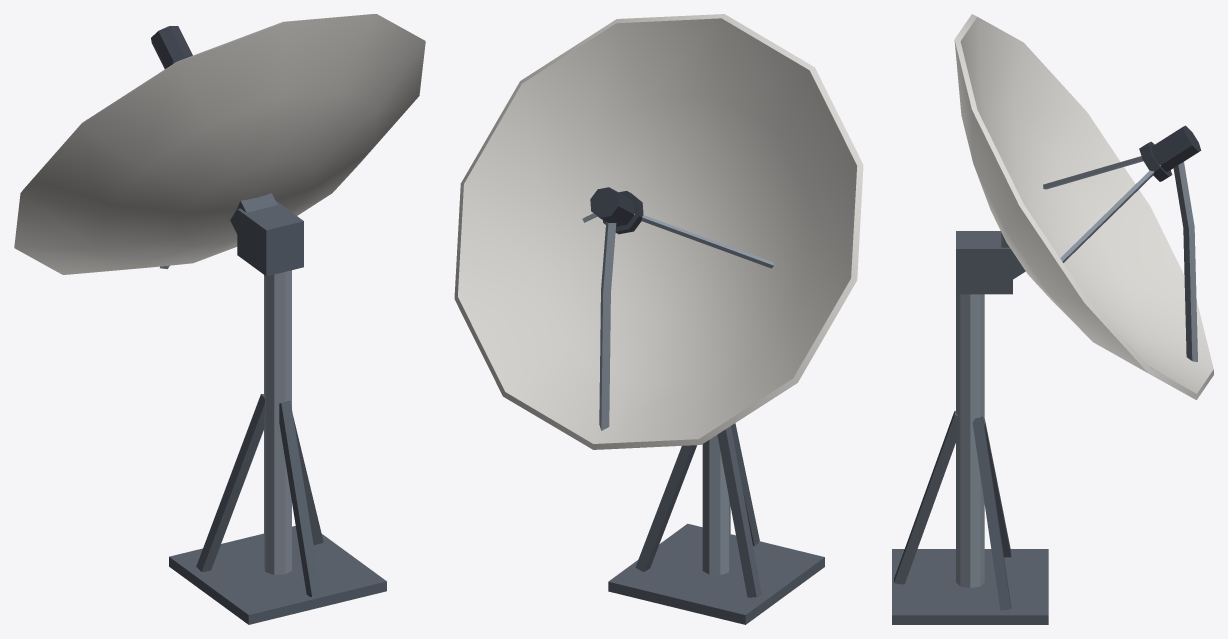
Rendered from satellite_dish.glb.
3 renders of one model, left to right at view 1: azimuth 30°, elevation 25°; view 2: azimuth 150°, elevation 25°; view 3: azimuth 270°, elevation 25°, orthographic.
Parts seen in each view (by area): view 1: satellite_dish; view 2: satellite_dish; view 3: satellite_dish.
Boxes of the visible parts, x1,y1,x2,y2 form: satellite_dish: (14,14,425,624); satellite_dish: (454,14,863,624); satellite_dish: (892,14,1213,624).
Size of the model in its own units: 1.27 by 1.71 by 0.904.
